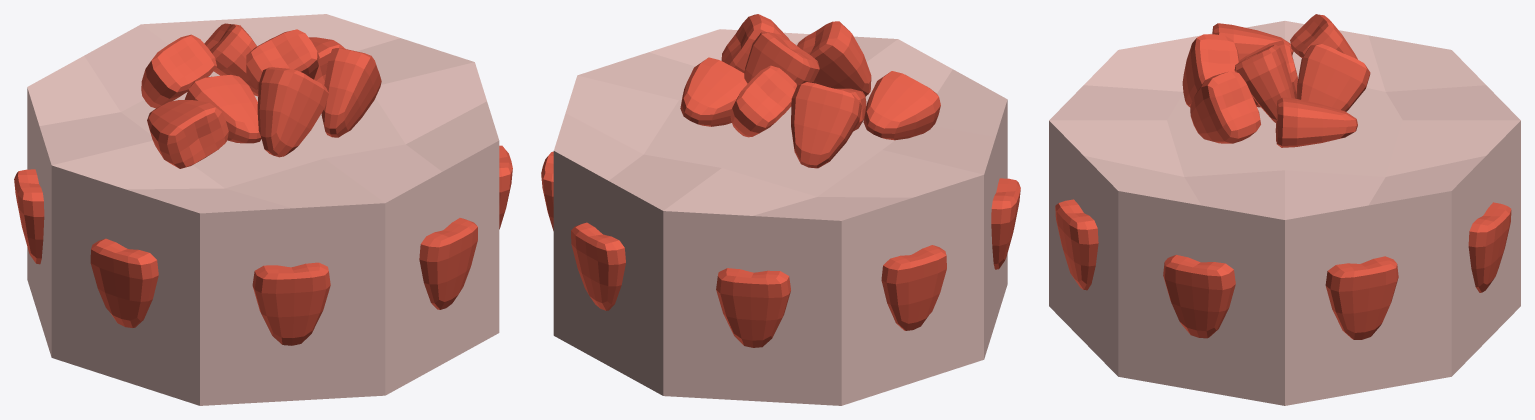
Rendered from cake.fbx.
The picture shows the model from 3 angles, left to right: view 1: azimuth 30°, elevation 25°; view 2: azimuth 150°, elevation 25°; view 3: azimuth 270°, elevation 25°; orthographic projection. The views are drawn at different scales.
Visible parts, largest first — view 1: Circle; view 2: Circle; view 3: Circle.
Part boxes in pixels (x1,y1,x2,y2): Circle: (14,14,512,405); Circle: (541,14,1020,405); Circle: (1049,14,1520,405).
Size of the model in its own units: 200 by 125 by 200.
